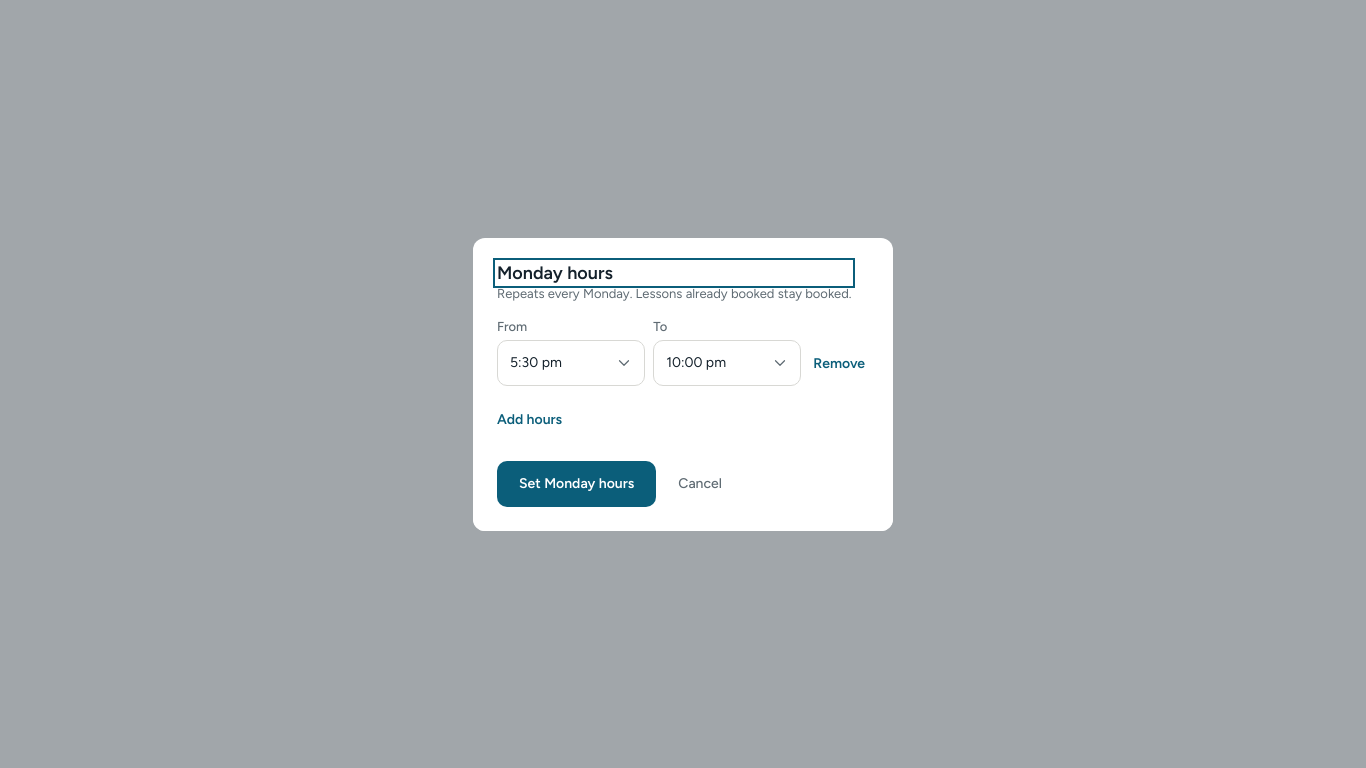
Test case: EditDayHoursDialog › refuses overlapping ranges under the second one and stays open (walkthrough 5)
Select "8:00 pm" in the dropdown labelled "To": [727, 362] box [653, 340, 801, 386]
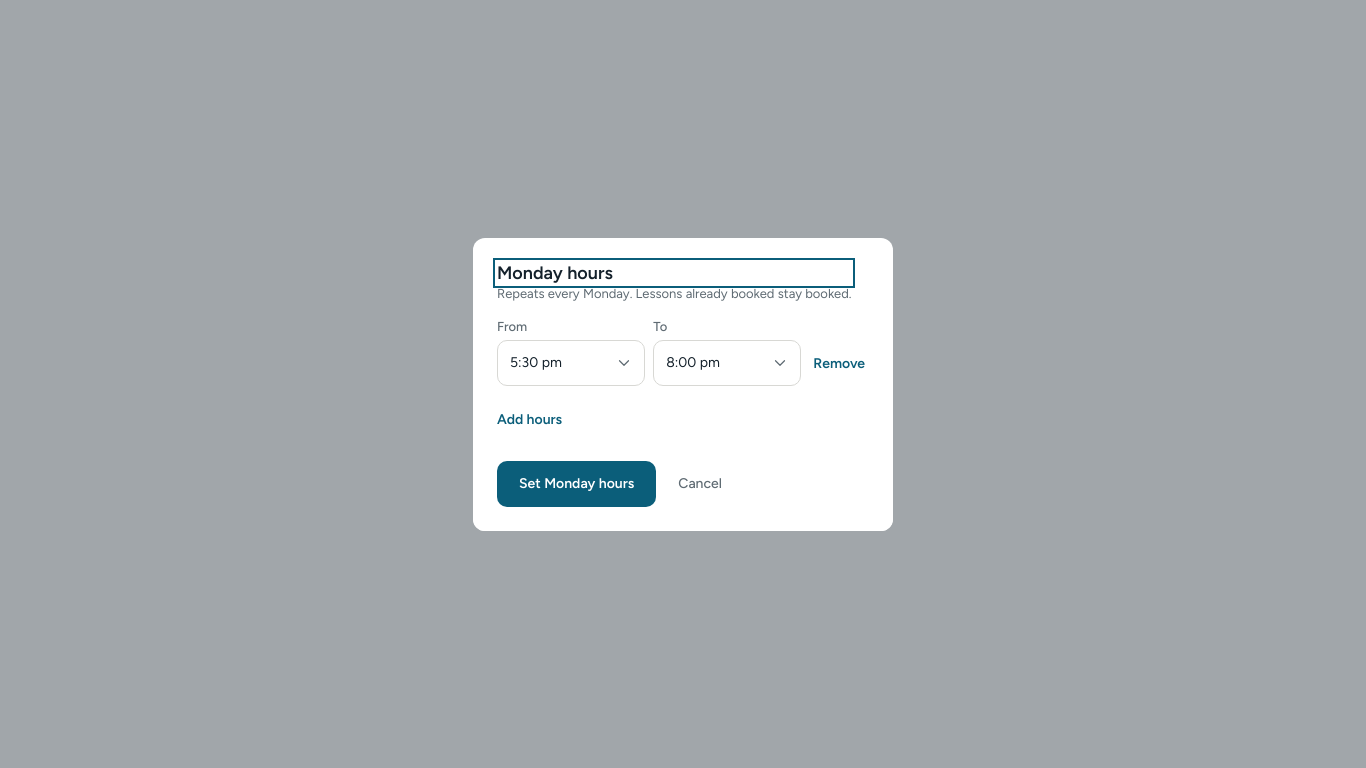
Click the button "Add hours": [530, 420] box [497, 398, 562, 442]
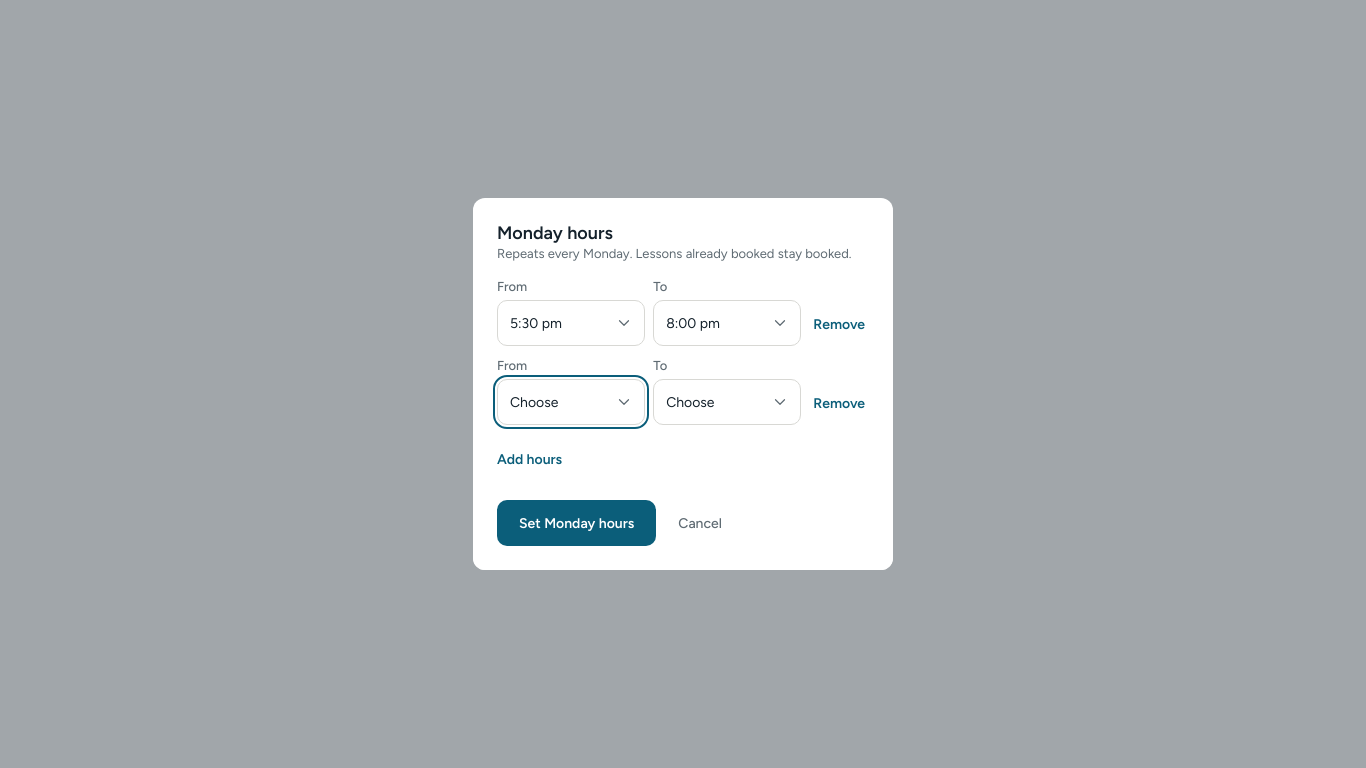
Select "7:00 pm" in the 2nd dropdown labelled "From": [571, 402] box [497, 379, 645, 425]
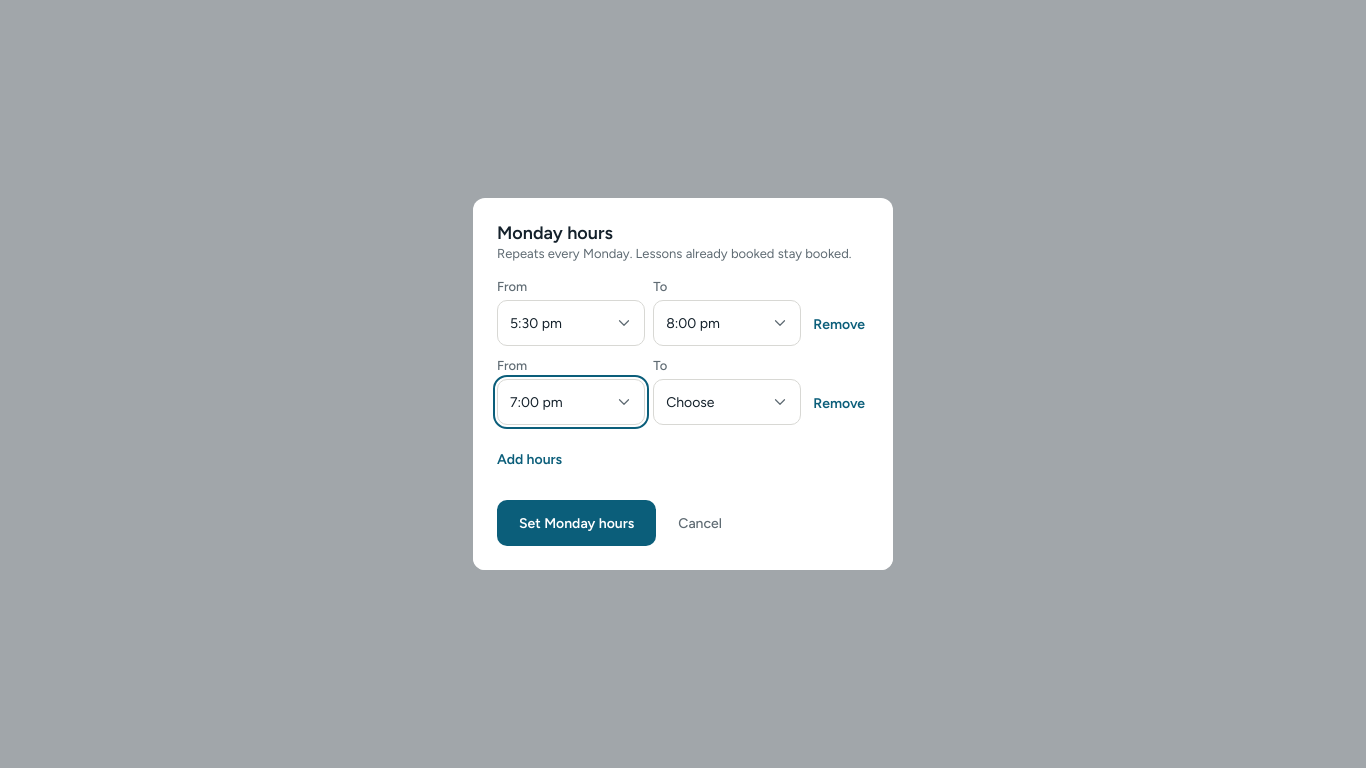
Select "10:00 pm" in the 2nd dropdown labelled "To": [727, 402] box [653, 379, 801, 425]
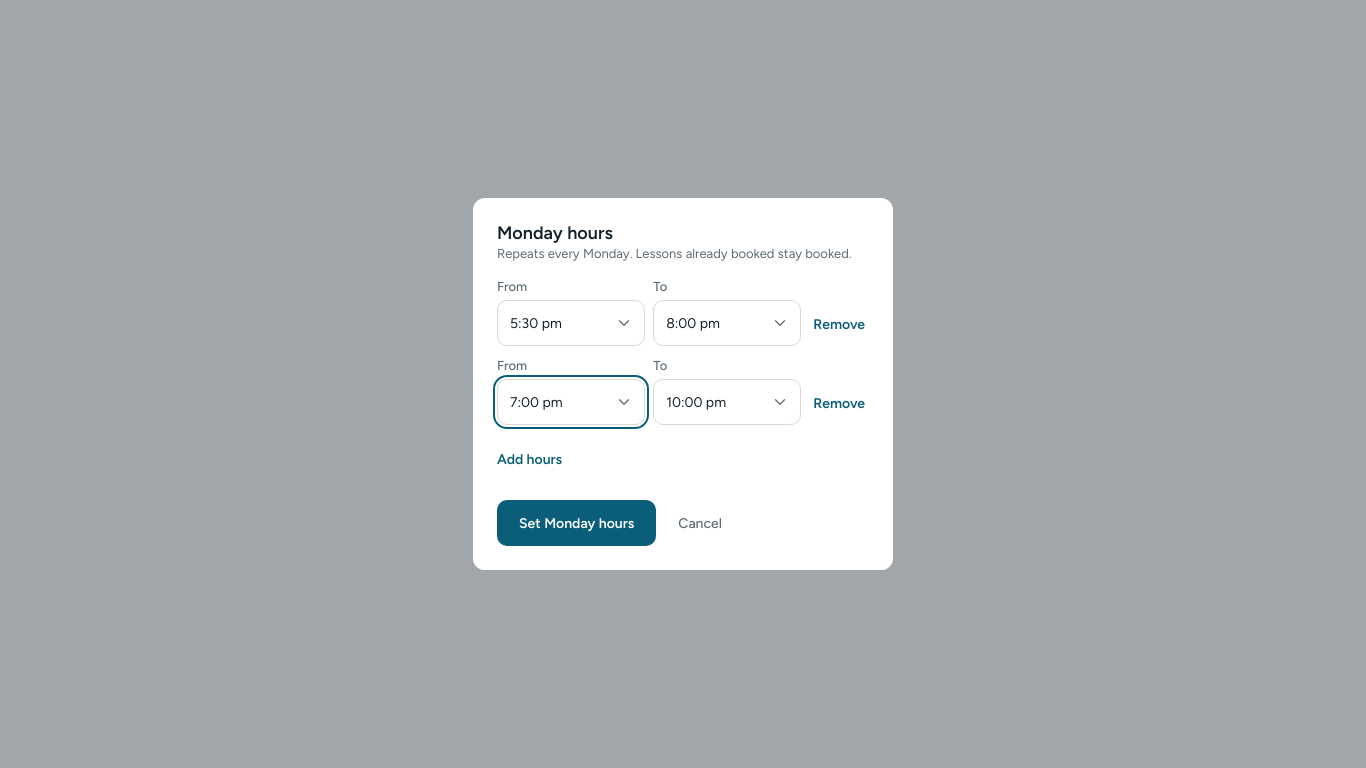
Click the button "Set Monday hours": [577, 523] box [497, 500, 656, 546]
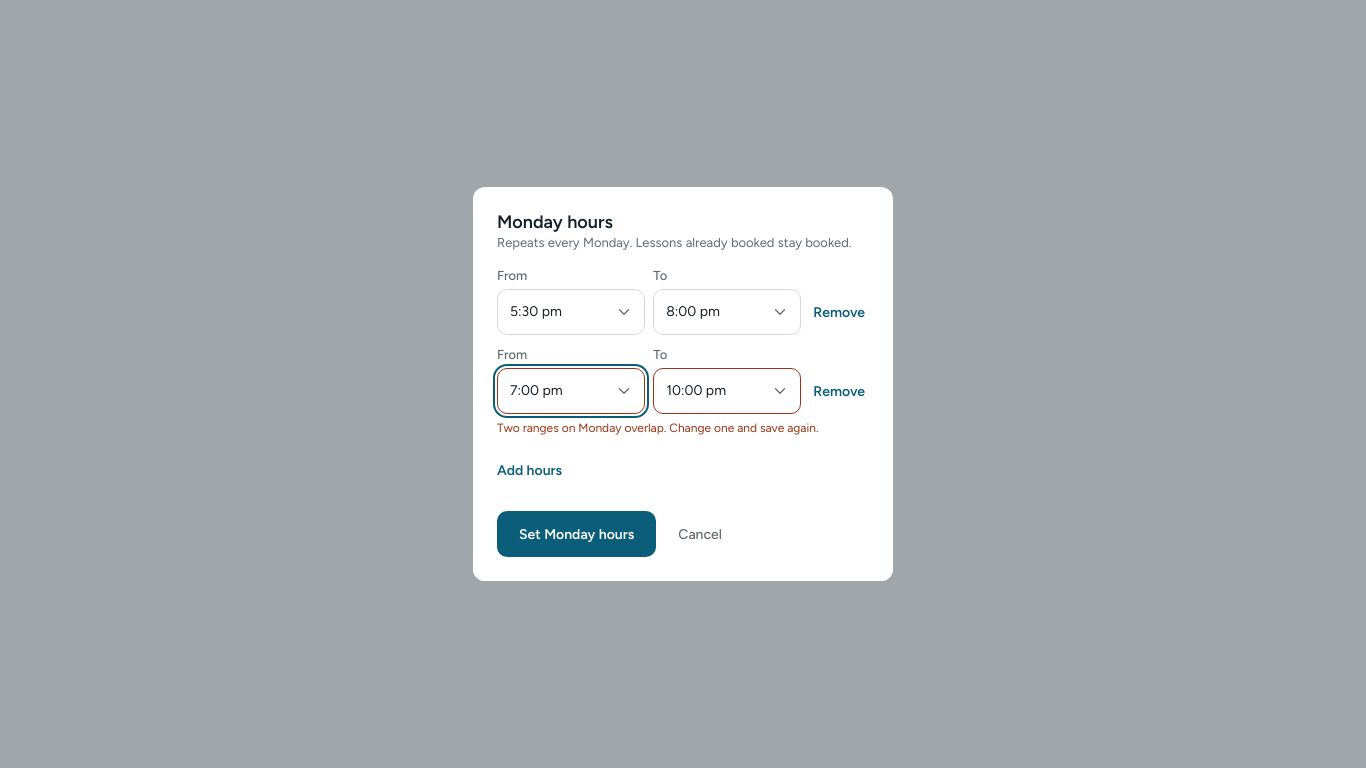
Expected: the element named "Hours 2" is shown, [497, 347, 869, 436]
Expected: the text "Two ranges on Monday overlap. Change one and save again." is shown, [497, 420, 869, 436]
